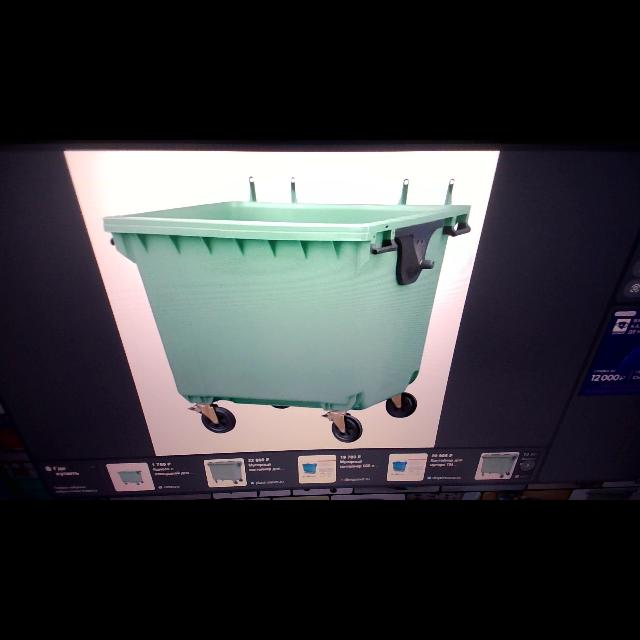Trash_Can_Empty: (102, 199, 472, 412)
